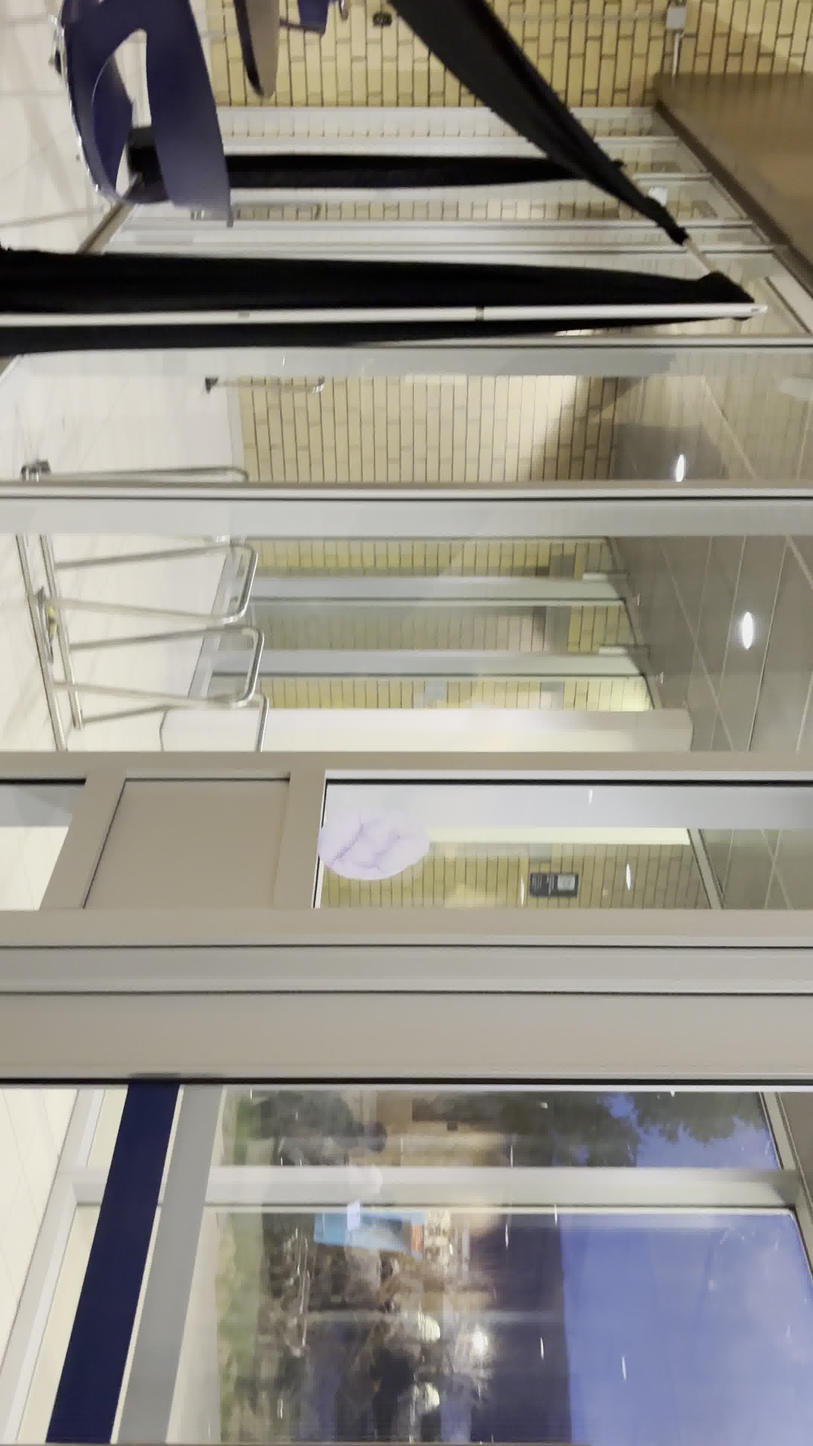Target: (315, 803, 431, 883)
